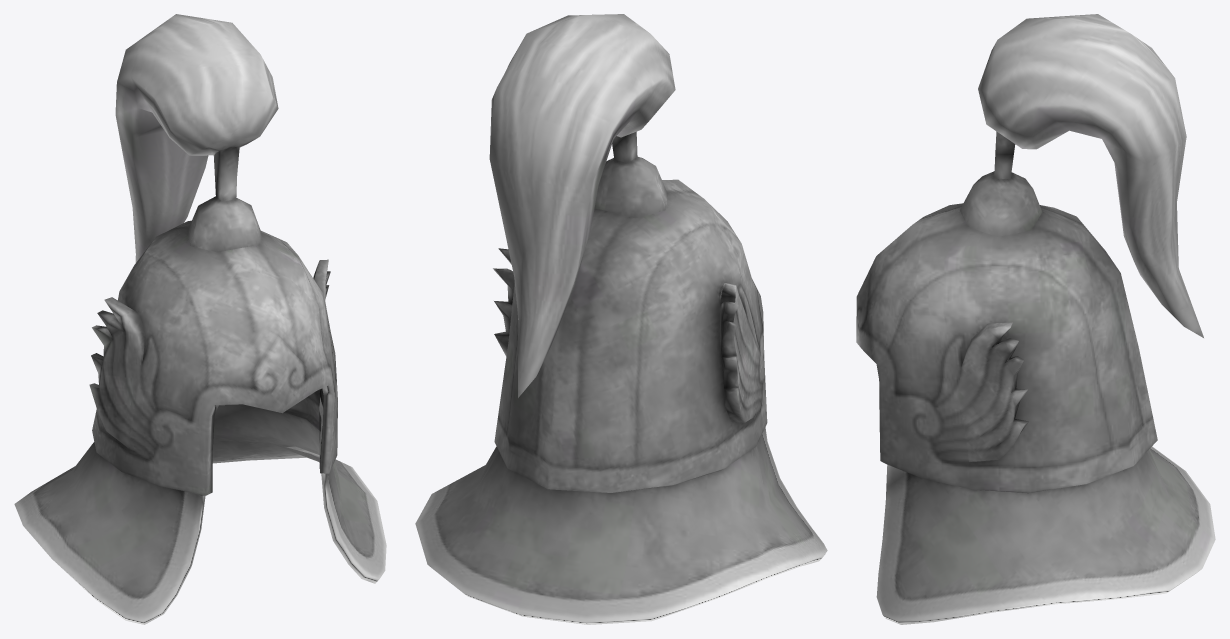
File: helmet-championinfantry.glb
3 renders of one model, left to right at view 1: azimuth 30°, elevation 25°; view 2: azimuth 150°, elevation 25°; view 3: azimuth 270°, elevation 25°, orthographic. The views are drawn at different scales.
Size of the model in its own units: 0.3838 by 0.5935 by 0.3487.
1 material, 1 textured.
